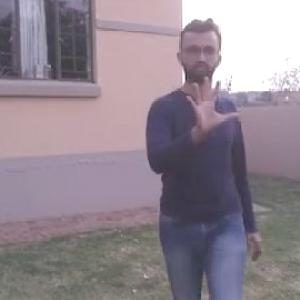follow_hand: (182, 72, 240, 134)
